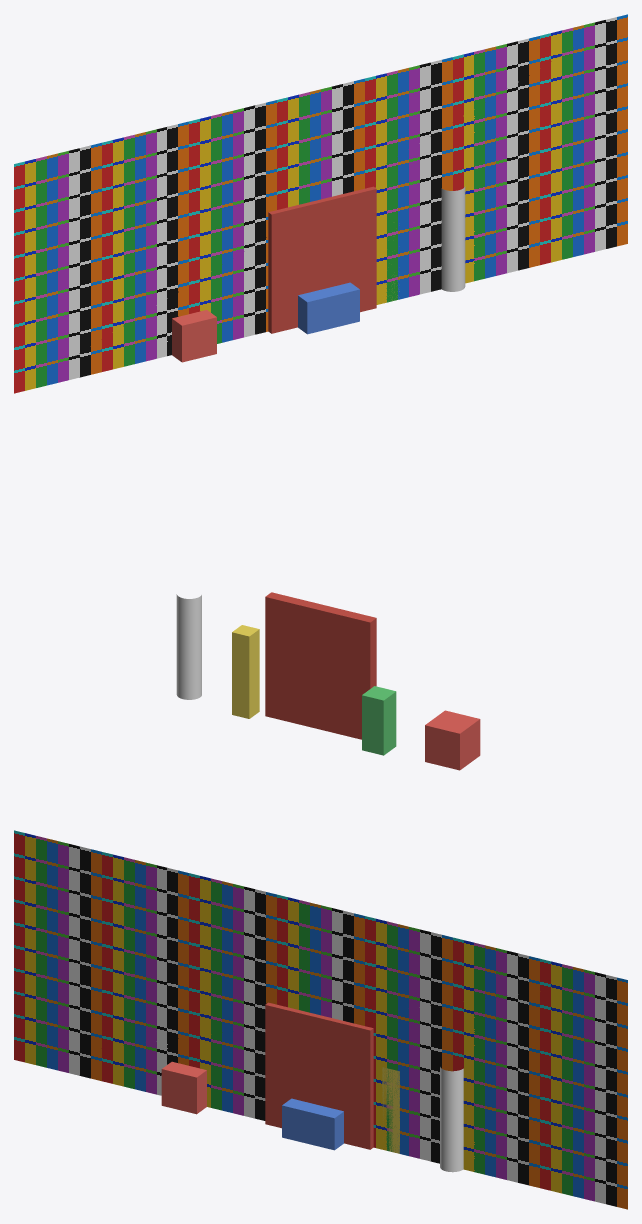
The model's file is temporal_disocclude.gltf.
3 renders of one model, top to bottom at view 1: azimuth 30°, elevation 25°; view 2: azimuth 150°, elevation 25°; view 3: azimuth 330°, elevation 25°, orthographic.
Parts seen in each view (by area): view 1: backdrop_wall, occluder, props; view 2: occluder, props; view 3: backdrop_wall, occluder, props.
Boxes of the visible parts, x1,y1,x2,y2 form: backdrop_wall: (14, 14, 627, 393); occluder: (268, 186, 376, 333); props: (172, 186, 465, 362); occluder: (265, 592, 376, 739); props: (176, 594, 480, 770); backdrop_wall: (14, 830, 627, 1209); occluder: (265, 1002, 373, 1149); props: (161, 1061, 463, 1172).
Size of what is drawn, in the model's own units: 14 by 5 by 1.05.
Materials: 7 (1 with a texture image).
